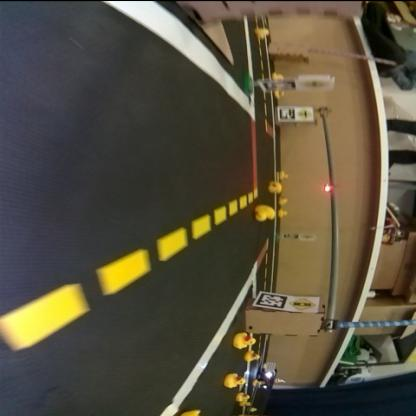Duckie: (234, 334, 256, 349), (256, 208, 275, 221), (226, 375, 244, 387), (247, 350, 260, 362), (268, 183, 283, 193), (238, 394, 247, 401), (276, 91, 286, 97), (280, 211, 288, 216), (282, 198, 288, 204)
Duckiebot: (260, 362, 276, 390)
Intersection sign: (301, 79, 332, 89), (298, 109, 312, 119), (302, 234, 316, 240)
QR code: (258, 294, 288, 308), (280, 108, 293, 120), (283, 234, 297, 240)
Signal sign: (290, 296, 318, 310)
Traffic light: (324, 184, 336, 192)
